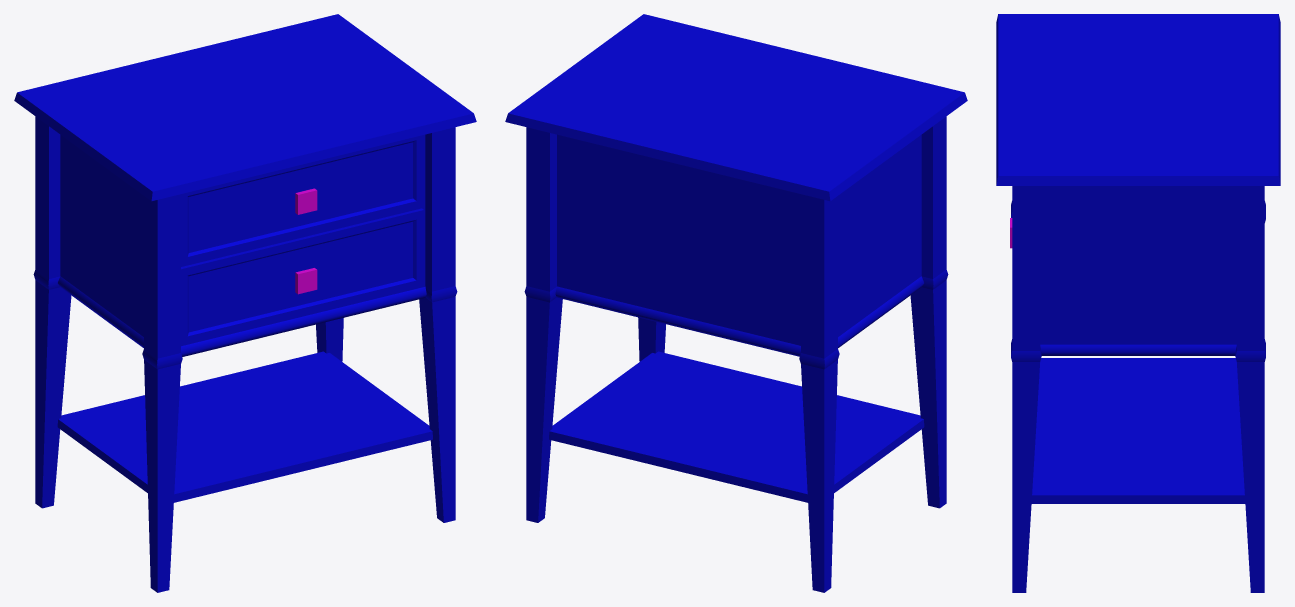
The model's file is End_Table.FBX.
3 renders of one model, left to right at view 1: azimuth 30°, elevation 25°; view 2: azimuth 150°, elevation 25°; view 3: azimuth 270°, elevation 25°, orthographic. The views are drawn at different scales.
Parts seen in each view (by area): view 1: End_Table; view 2: End_Table; view 3: End_Table.
Part boxes in pixels (x1,y1,x2,y2): End_Table: (14,14,476,592); End_Table: (505,14,967,592); End_Table: (996,14,1280,592).
Size of the model in its own units: 60.96 by 73.27 by 44.61.
